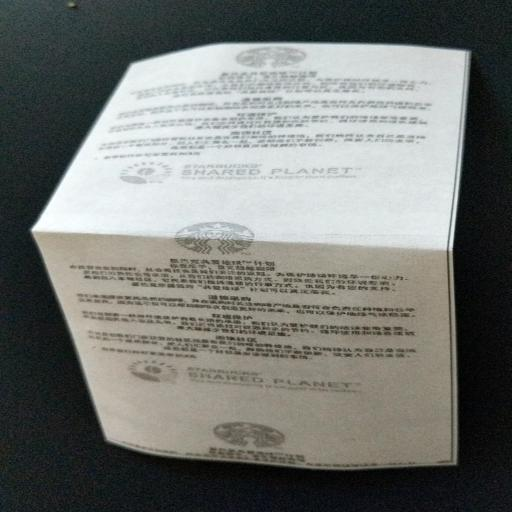paper: (9, 9, 509, 511)
